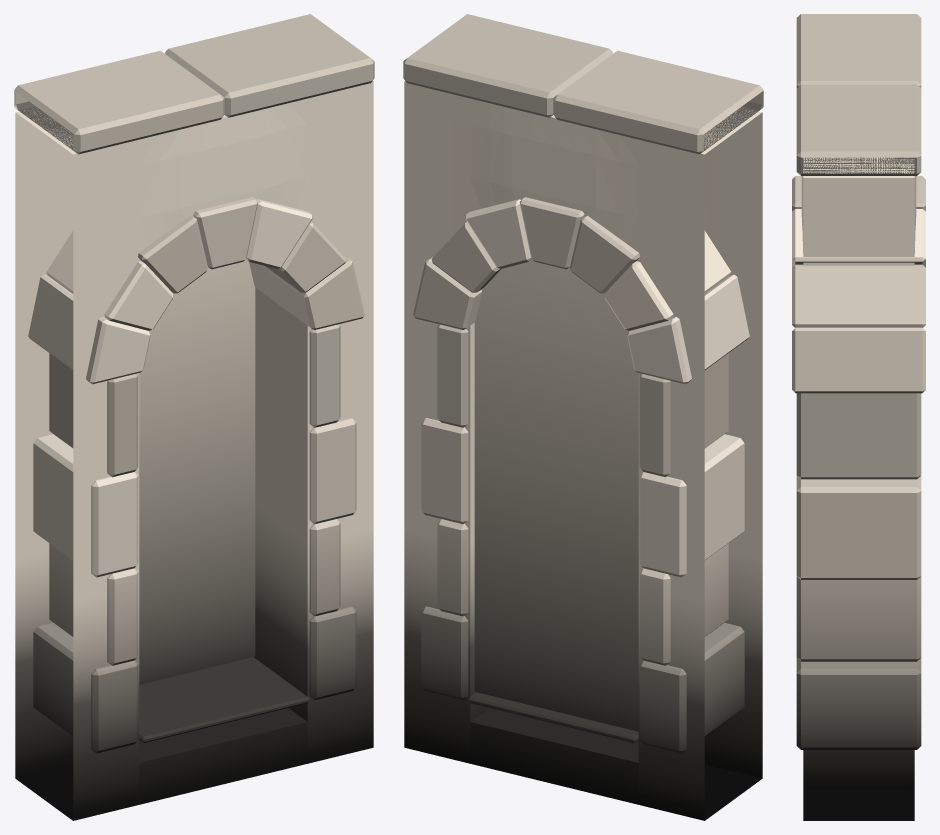
Rendered from SM_VKI_Wall_Sewer_Passage_150_Full.fbx.
3 renders of one model, left to right at view 1: azimuth 30°, elevation 25°; view 2: azimuth 150°, elevation 25°; view 3: azimuth 270°, elevation 25°, orthographic. The views are drawn at different scales.
Visible parts, largest first — view 1: SM_VKI_Wall_Sewer_Passage_150_Full.001; view 2: SM_VKI_Wall_Sewer_Passage_150_Full.001; view 3: SM_VKI_Wall_Sewer_Passage_150_Full.001.
Boxes of the visible parts, box(x1,y1,x2,y2) form: SM_VKI_Wall_Sewer_Passage_150_Full.001: box(14, 14, 374, 820); SM_VKI_Wall_Sewer_Passage_150_Full.001: box(403, 14, 763, 820); SM_VKI_Wall_Sewer_Passage_150_Full.001: box(792, 14, 925, 820).
Size of the model in its own units: 1.5 by 3.3 by 0.6.
